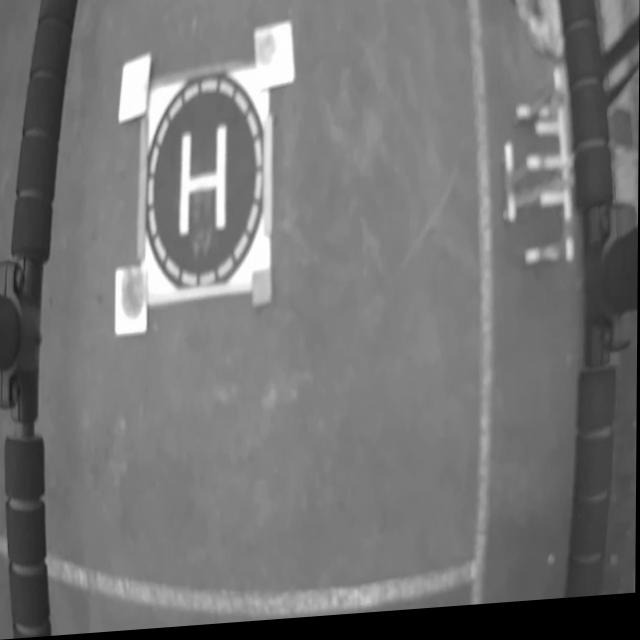Helipad: (180, 130, 227, 238)
